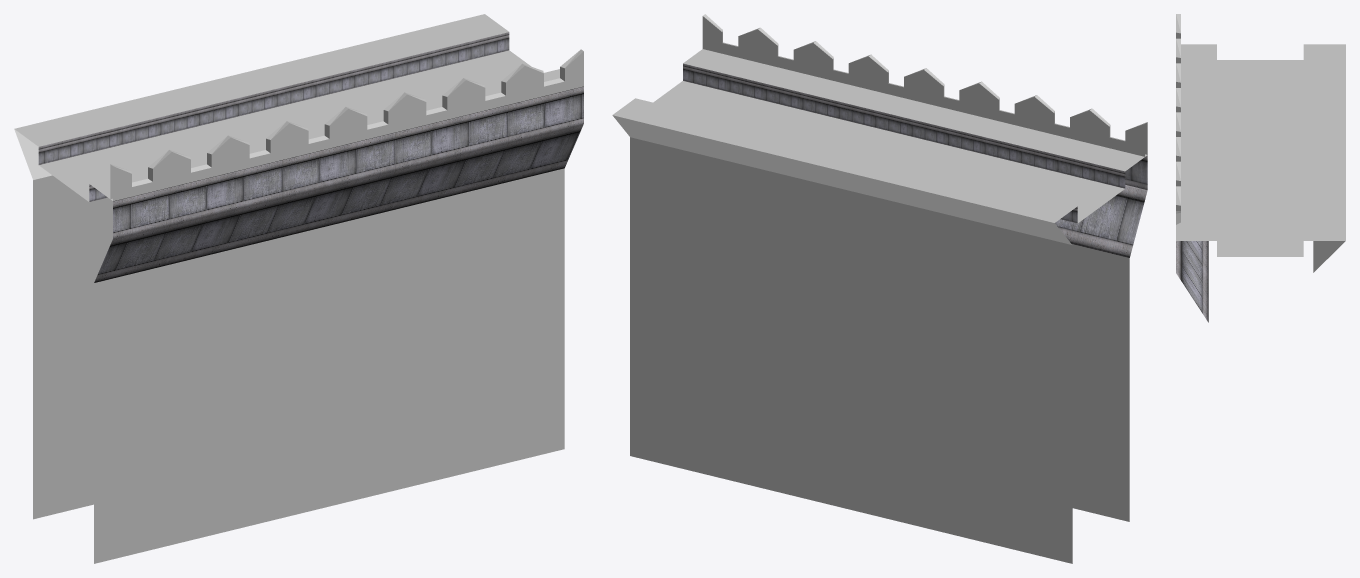
File: ShortWall.FBX
3 views of the same model, side by side, from view 1: azimuth 30°, elevation 25°; view 2: azimuth 150°, elevation 25°; view 3: azimuth 270°, elevation 25° (orthographic). The views are drawn at different scales.
Parts seen in each view (by area): view 1: shortWall; view 2: shortWall; view 3: shortWall.
Part boxes in pixels (<box>): shortWall: <box>14,14,583,563</box>; shortWall: <box>612,14,1147,563</box>; shortWall: <box>1176,14,1345,322</box>.
Size of the model in its own units: 431 by 360 by 157.
